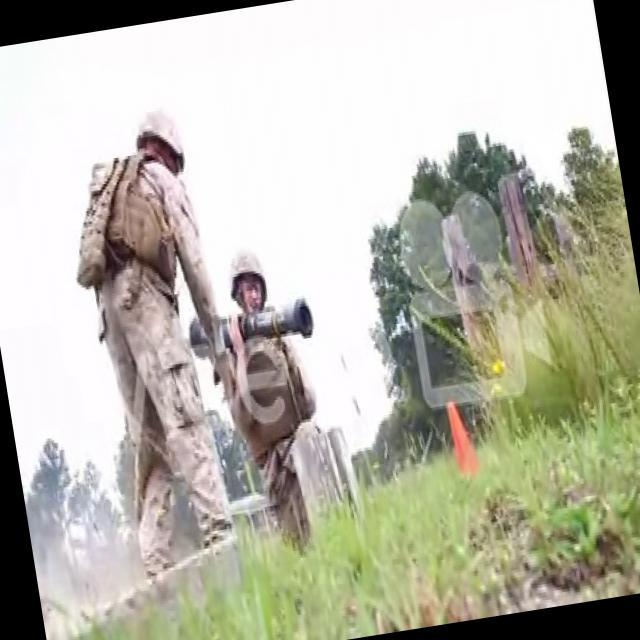rocket: (186, 296, 316, 355)
